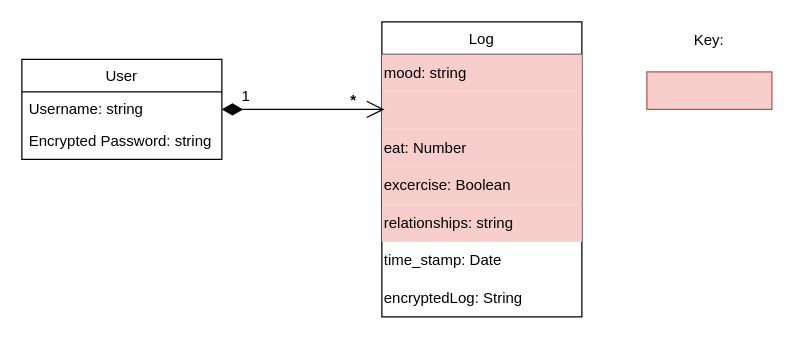
Image size: 794x339. Some labels were removed from this diagram. The centre of each missing label's shape, as x and y in pixels:
"Encrypted Data" goes at pixel 709 90.
"sleep: Number" goes at pixel 481 110.
